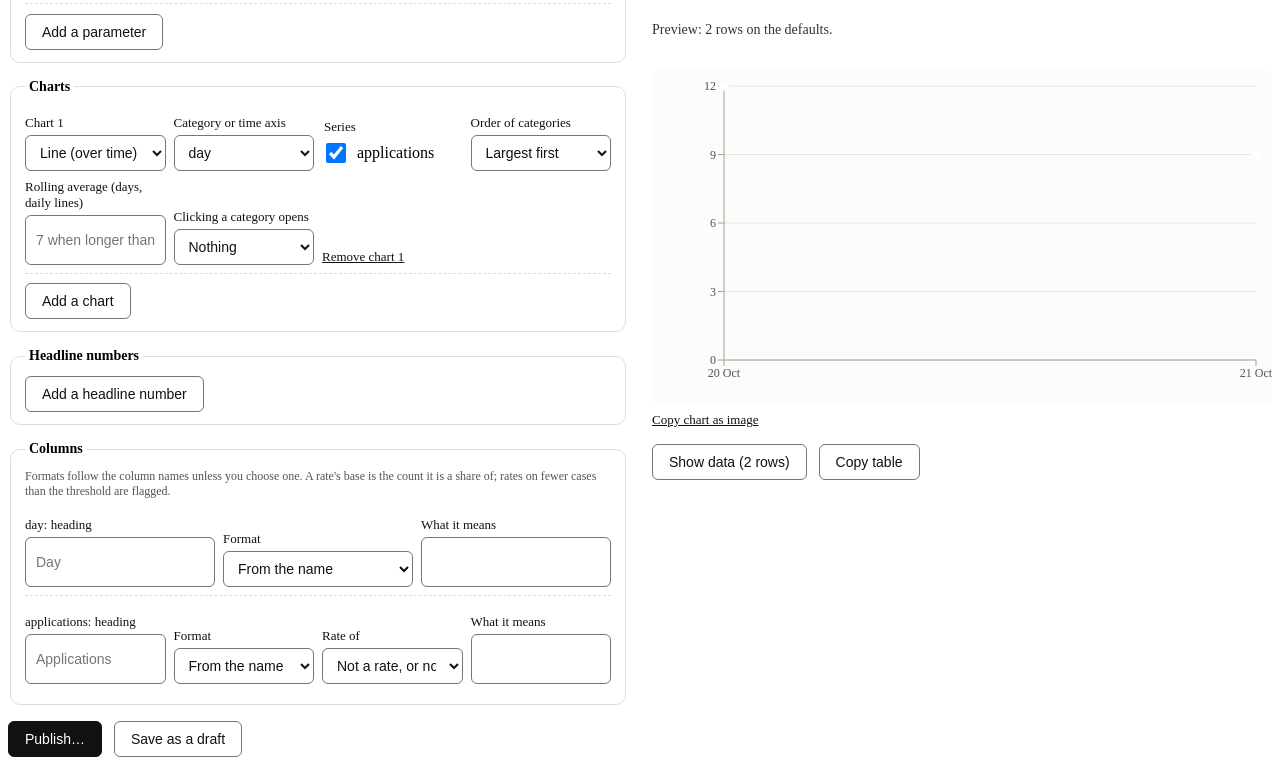
Test: ReportEditor › does not show an empty review when the published version cannot be loaded
The image size is (1280, 765).
(page scrolled)
Expected: the text "Preview: 2 rows on the defaults." is shown, [652,22,832,37]
Click the button "Publish…". click: x=55, y=738
box: [8,720,102,756]
(page scrolled)
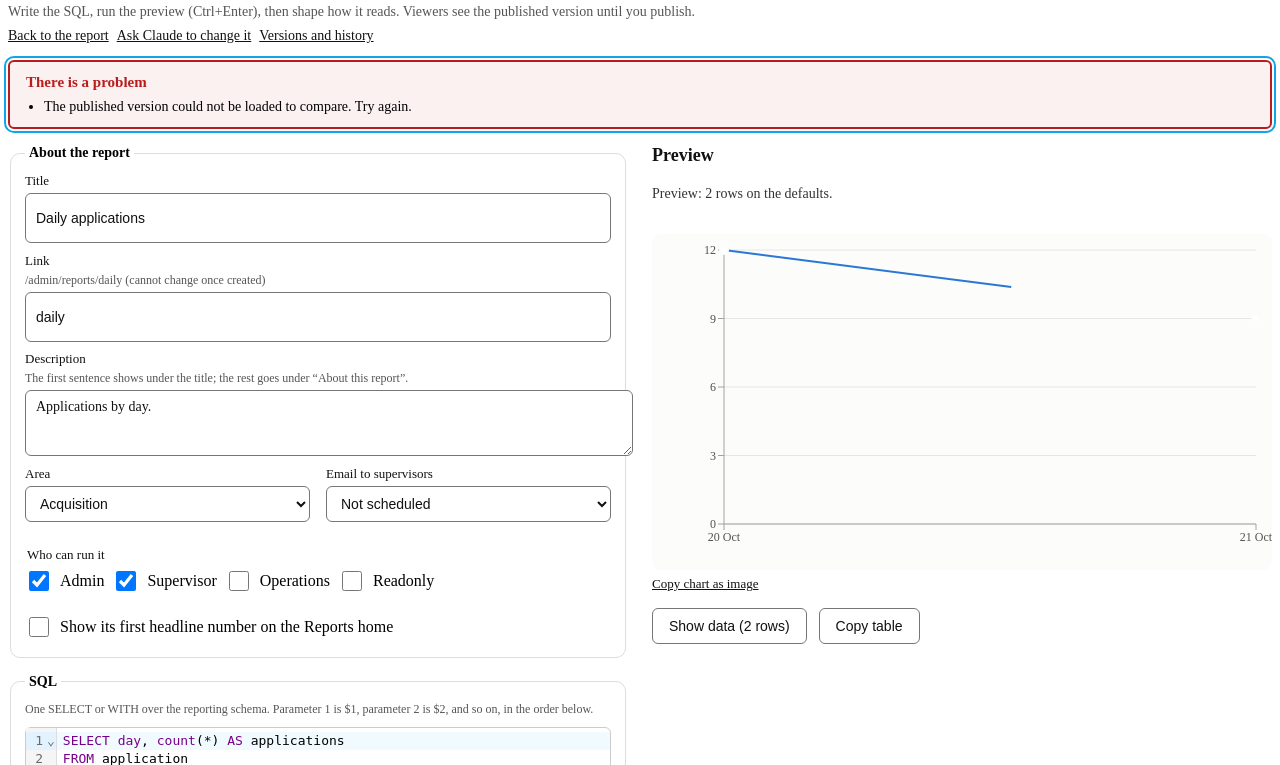
Now the message with test id "editor-problems" shows "The published version could not be loaded to compare.", box [44,99,412,114]
